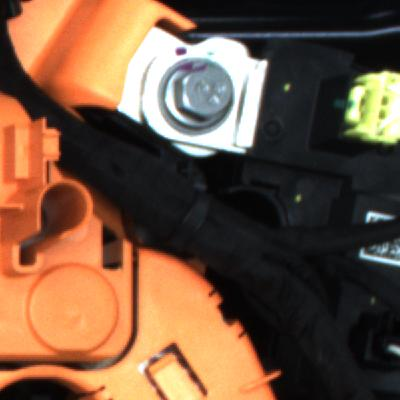nut_b: (153, 53, 255, 139)
